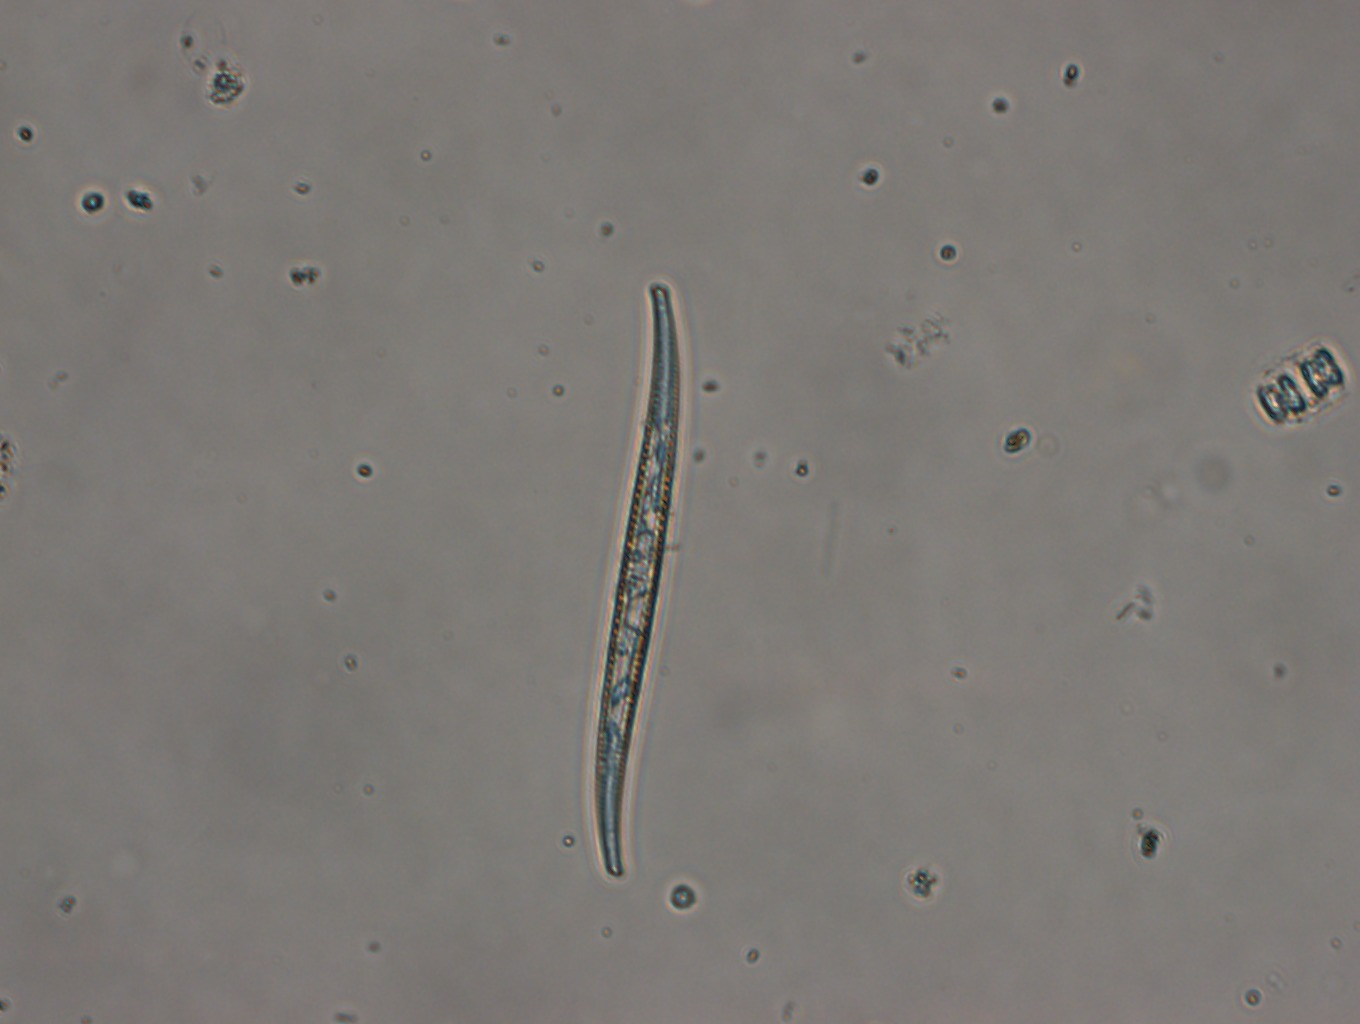pleurosigma pelagicum: (587, 281, 688, 877)
